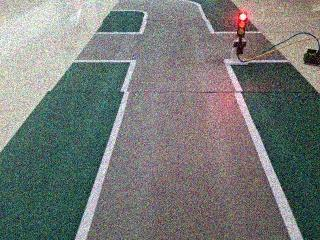red: (231, 8, 251, 52)
